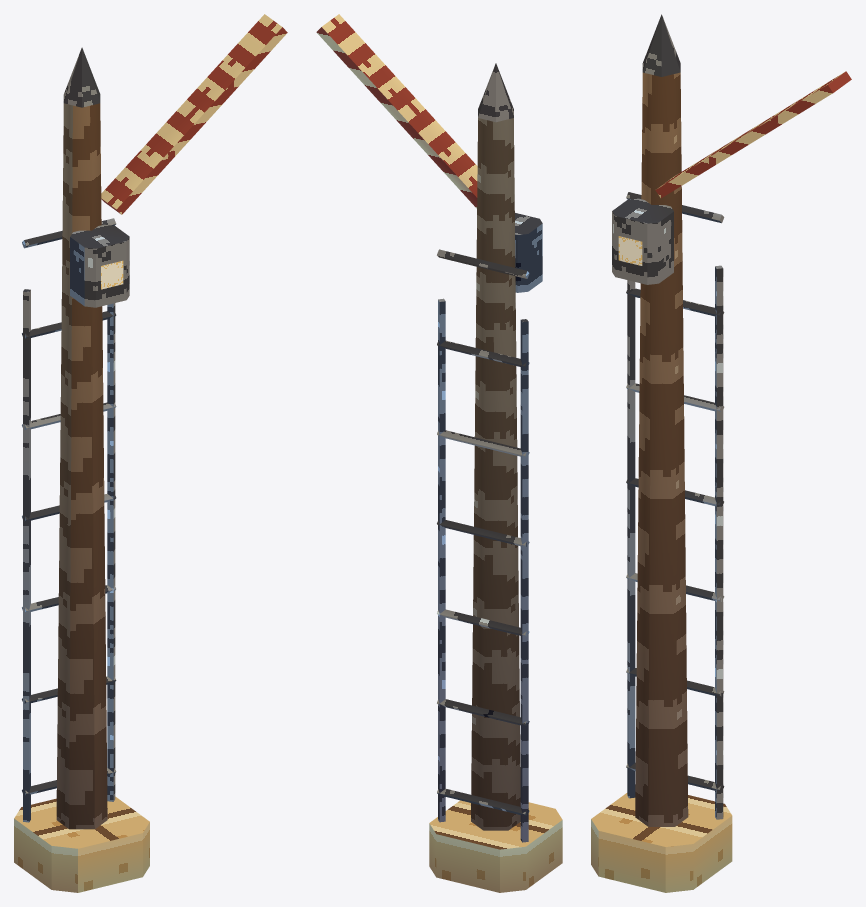
File: wrail.signal__clear.glb
3 views of the same model, side by side, from view 1: azimuth 30°, elevation 25°; view 2: azimuth 150°, elevation 25°; view 3: azimuth 330°, elevation 25° (orthographic). The views are drawn at different scales.
Visible parts, largest first — view 1: kit_mast, kit_ladder, kit_base, kit_arm, kit_lamp, kit_cap, kit_card_lens; view 2: kit_mast, kit_ladder, kit_base, kit_arm, kit_lamp, kit_cap; view 3: kit_mast, kit_ladder, kit_base, kit_lamp, kit_arm, kit_cap, kit_card_lens.
Part boxes in pixels (box(x1,y1,x2,y2)): kit_mast: box(56, 103, 107, 829); kit_ladder: box(22, 218, 116, 822); kit_base: box(14, 796, 149, 892); kit_arm: box(101, 14, 287, 214); kit_lamp: box(70, 224, 129, 307); kit_cap: box(63, 47, 100, 107); kit_card_lens: box(101, 260, 123, 289); kit_mast: box(471, 118, 520, 830); kit_ladder: box(437, 249, 529, 842); kit_base: box(429, 800, 562, 892); kit_arm: box(316, 14, 477, 208); kit_lamp: box(515, 213, 542, 292); kit_cap: box(478, 63, 513, 122); kit_mast: box(635, 72, 688, 826); kit_ladder: box(626, 192, 724, 819); kit_base: box(591, 793, 732, 892); kit_lamp: box(612, 198, 673, 284); kit_arm: box(655, 71, 851, 198); kit_cap: box(642, 14, 680, 76); kit_card_lens: box(618, 236, 642, 265).
Size of the model in its own units: 1.67 by 5.55 by 0.72.
Materials: 5 (5 with a texture image).
